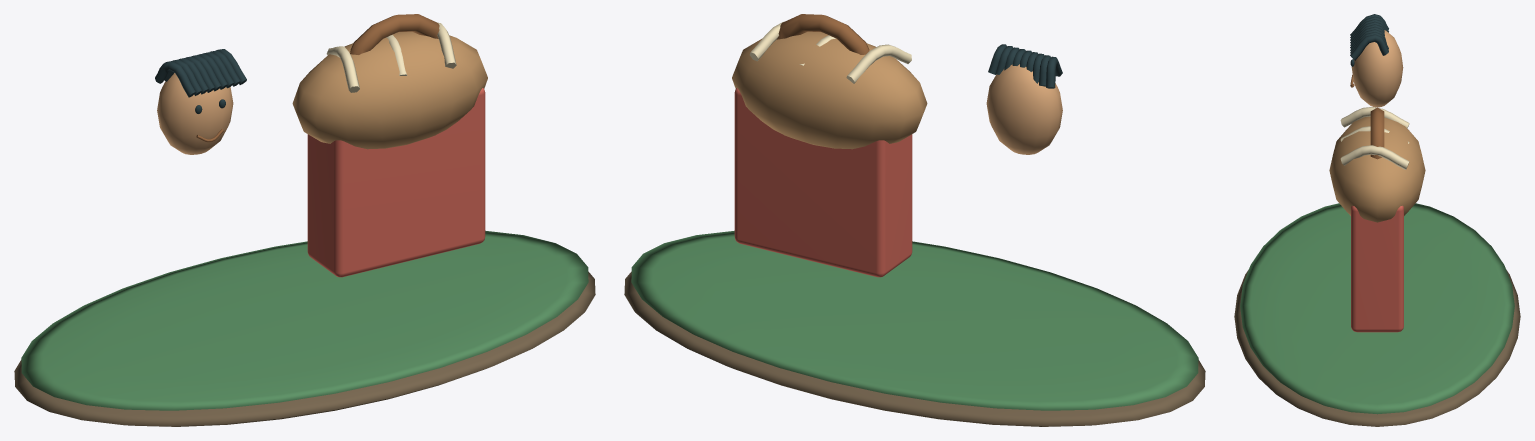
File: bread-package.glb
3 renders of one model, left to right at view 1: azimuth 30°, elevation 25°; view 2: azimuth 150°, elevation 25°; view 3: azimuth 270°, elevation 25°, orthographic. The views are drawn at different scales.
Visible parts, largest first — view 1: bread-package_surface_01, bread-package_surface_05, bread-package_surface_06, bread-package_surface_00, bread-package_surface_02, bread-package_surface_03, bread-package_surface_04, bread-package_surface_07; view 2: bread-package_surface_01, bread-package_surface_05, bread-package_surface_06, bread-package_surface_00, bread-package_surface_02, bread-package_surface_03, bread-package_surface_04, bread-package_surface_07; view 3: bread-package_surface_01, bread-package_surface_06, bread-package_surface_05, bread-package_surface_00, bread-package_surface_02, bread-package_surface_07, bread-package_surface_03, bread-package_surface_04.
Boxes of the visible parts, x1,y1,x2,y2 form: bread-package_surface_01: [21, 230, 588, 410]; bread-package_surface_05: [307, 88, 485, 277]; bread-package_surface_06: [292, 31, 487, 149]; bread-package_surface_00: [14, 271, 595, 426]; bread-package_surface_02: [157, 73, 233, 154]; bread-package_surface_03: [155, 49, 246, 113]; bread-package_surface_04: [196, 14, 439, 142]; bread-package_surface_07: [326, 22, 456, 92]; bread-package_surface_01: [631, 230, 1198, 410]; bread-package_surface_05: [734, 88, 912, 277]; bread-package_surface_06: [732, 31, 927, 149]; bread-package_surface_00: [624, 271, 1205, 426]; bread-package_surface_02: [986, 64, 1062, 154]; bread-package_surface_03: [988, 44, 1062, 88]; bread-package_surface_04: [777, 14, 869, 54]; bread-package_surface_07: [749, 22, 911, 83]; bread-package_surface_01: [1240, 203, 1514, 414]; bread-package_surface_06: [1329, 116, 1425, 222]; bread-package_surface_05: [1351, 205, 1403, 332]; bread-package_surface_00: [1234, 270, 1520, 426]; bread-package_surface_02: [1351, 30, 1403, 107]; bread-package_surface_07: [1340, 107, 1409, 169]; bread-package_surface_03: [1350, 14, 1388, 66]; bread-package_surface_04: [1350, 75, 1384, 159].
Size of the model in its own units: 4.56 by 2.52 by 2.5.
